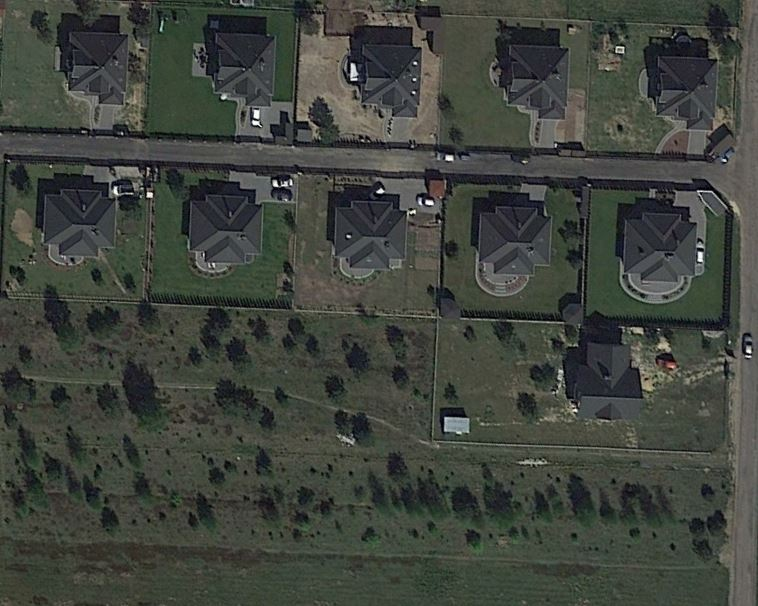family house: (617, 207, 702, 289), (35, 184, 122, 263), (569, 338, 648, 425), (645, 53, 727, 135), (184, 191, 265, 269), (496, 43, 574, 124), (205, 27, 281, 109), (330, 199, 412, 272), (474, 204, 555, 277), (62, 30, 135, 107), (358, 42, 423, 122)
